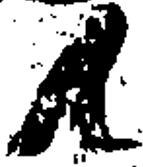Owl: (5, 2, 138, 160)
